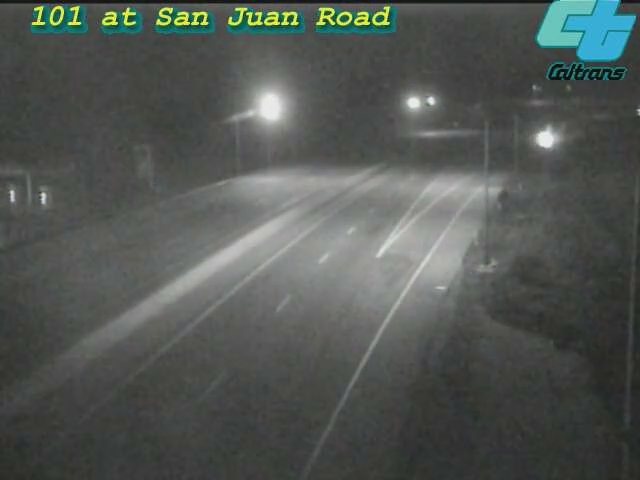vehicle: (519, 114, 569, 164)
